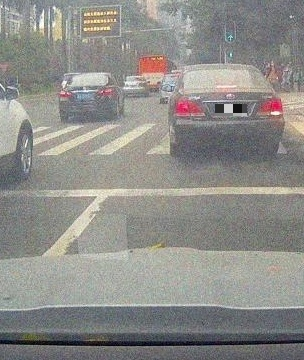L_light: (175, 101, 206, 116), (60, 90, 72, 97)
R_light: (256, 98, 283, 115), (98, 87, 113, 95)
T_light: (216, 85, 238, 88), (85, 75, 93, 77)
day-brake: (168, 64, 285, 157)
day-no: (59, 72, 115, 121)
plate_1: (215, 104, 247, 116)
